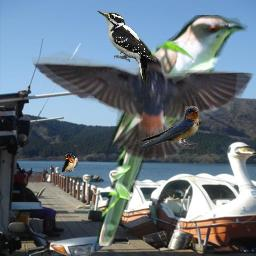Cuckoo: (97, 15, 248, 246)
Swallow: (26, 50, 256, 161), (128, 106, 202, 149), (62, 152, 78, 172)
Woodpecker: (96, 8, 157, 88)
